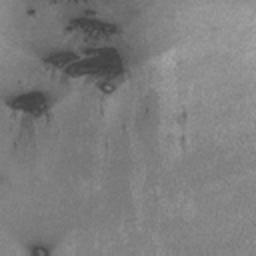Iron sheet ash: (41, 8, 127, 95), (5, 87, 52, 120), (31, 244, 50, 255), (27, 6, 36, 17)
